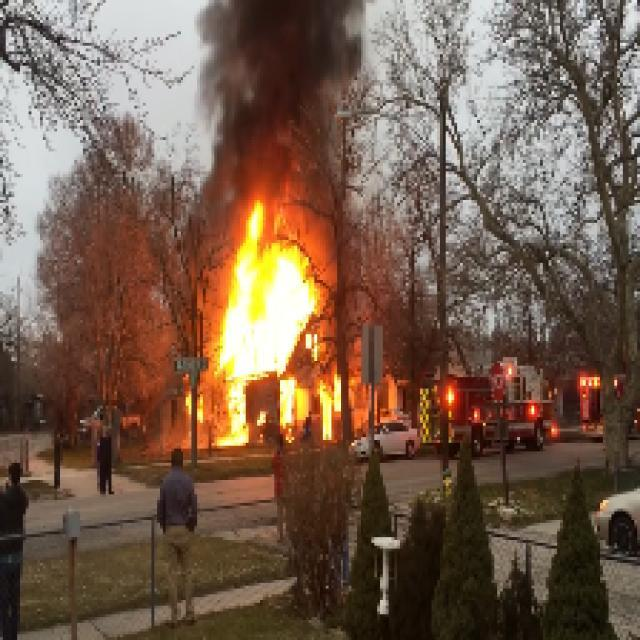Fire: (214, 223, 316, 391)
Smoke: (236, 5, 352, 168)
